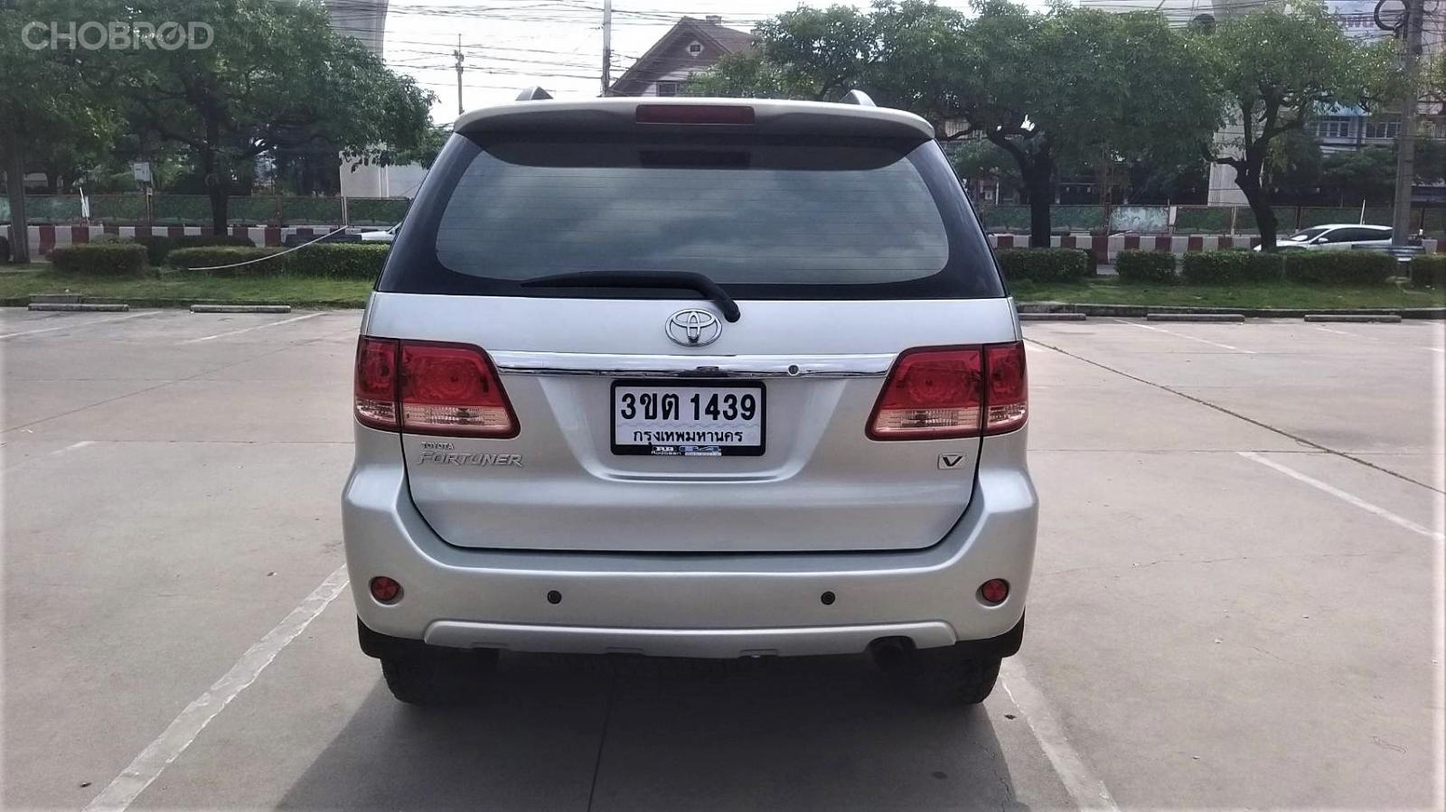license-plate: (610, 361, 778, 463)
